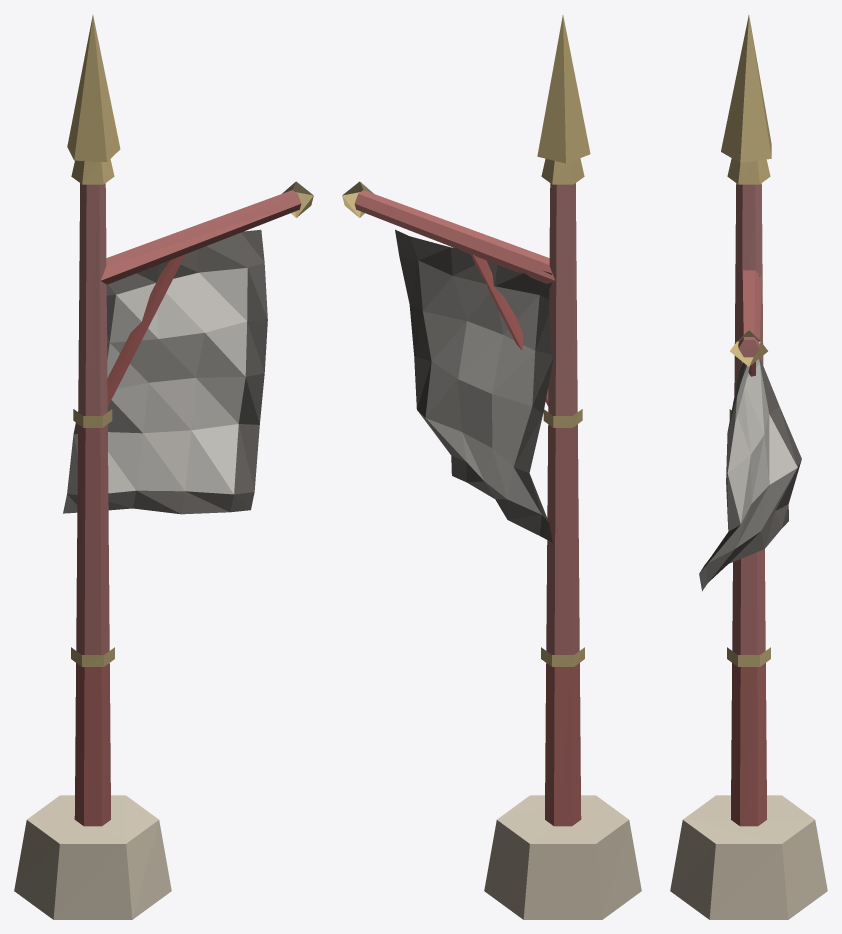
The model's file is flag.rect.suqi__pole.ground.miaogan__armHang.glb.
3 renders of one model, left to right at view 1: azimuth 30°, elevation 25°; view 2: azimuth 150°, elevation 25°; view 3: azimuth 270°, elevation 25°, orthographic.
Visible parts, largest first — view 1: flag.rect.suqi; view 2: flag.rect.suqi; view 3: flag.rect.suqi.
Boxes of the visible parts, x1,y1,x2,y2 form: flag.rect.suqi: [14, 15, 313, 919]; flag.rect.suqi: [342, 15, 641, 919]; flag.rect.suqi: [670, 15, 827, 919].
Bounding box in the file's own units: 1.72 × 5.16 × 0.84.
